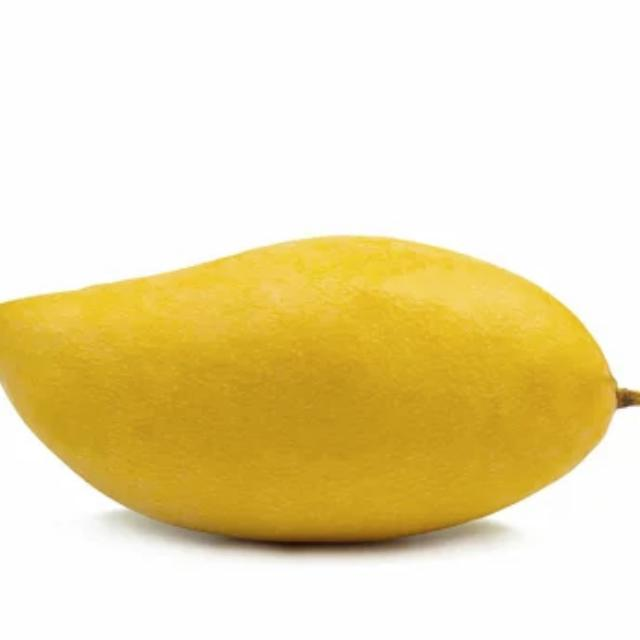mango: (0, 230, 618, 552)
